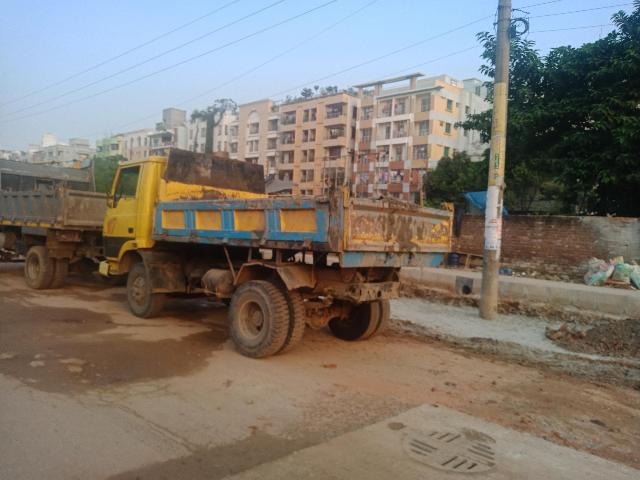truck: (99, 141, 457, 373), (0, 156, 106, 298)
